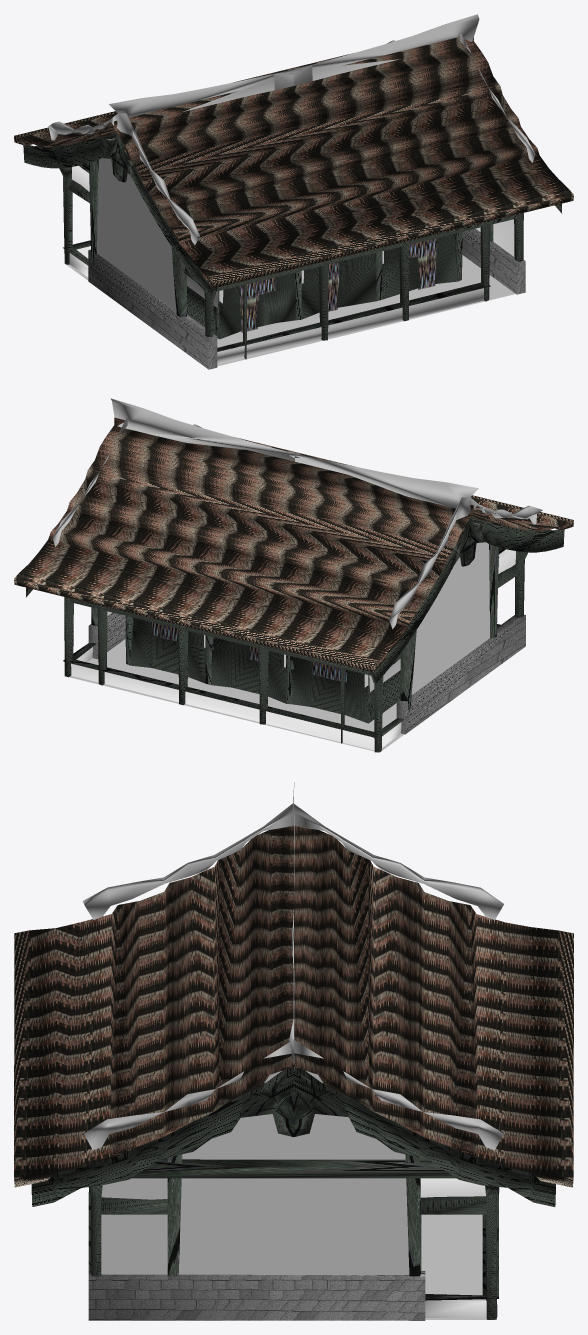
Rendered from far.gltf.
3 views of the same model, one above another, from view 1: azimuth 30°, elevation 25°; view 2: azimuth 150°, elevation 25°; view 3: azimuth 270°, elevation 25° (orthographic). The views are drawn at different scales.
Bounding box in the file's own units: 12.35 × 6.98 × 11.6.
